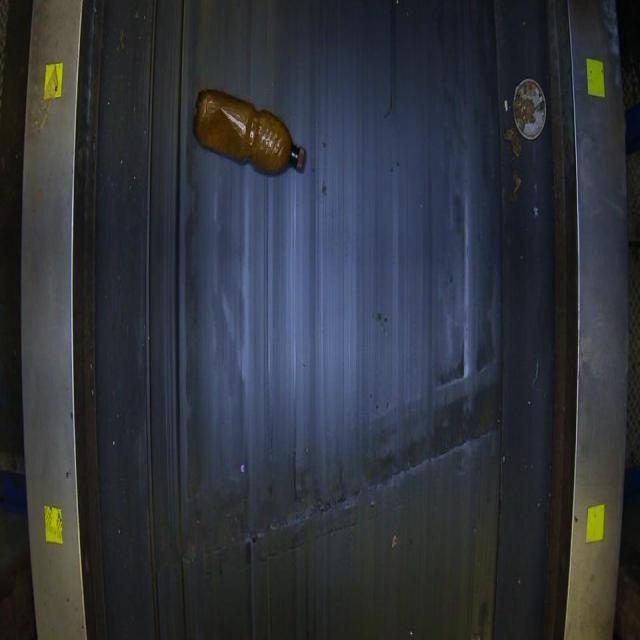cups: (192, 87, 306, 176)
trashbin: (10, 0, 633, 639)
